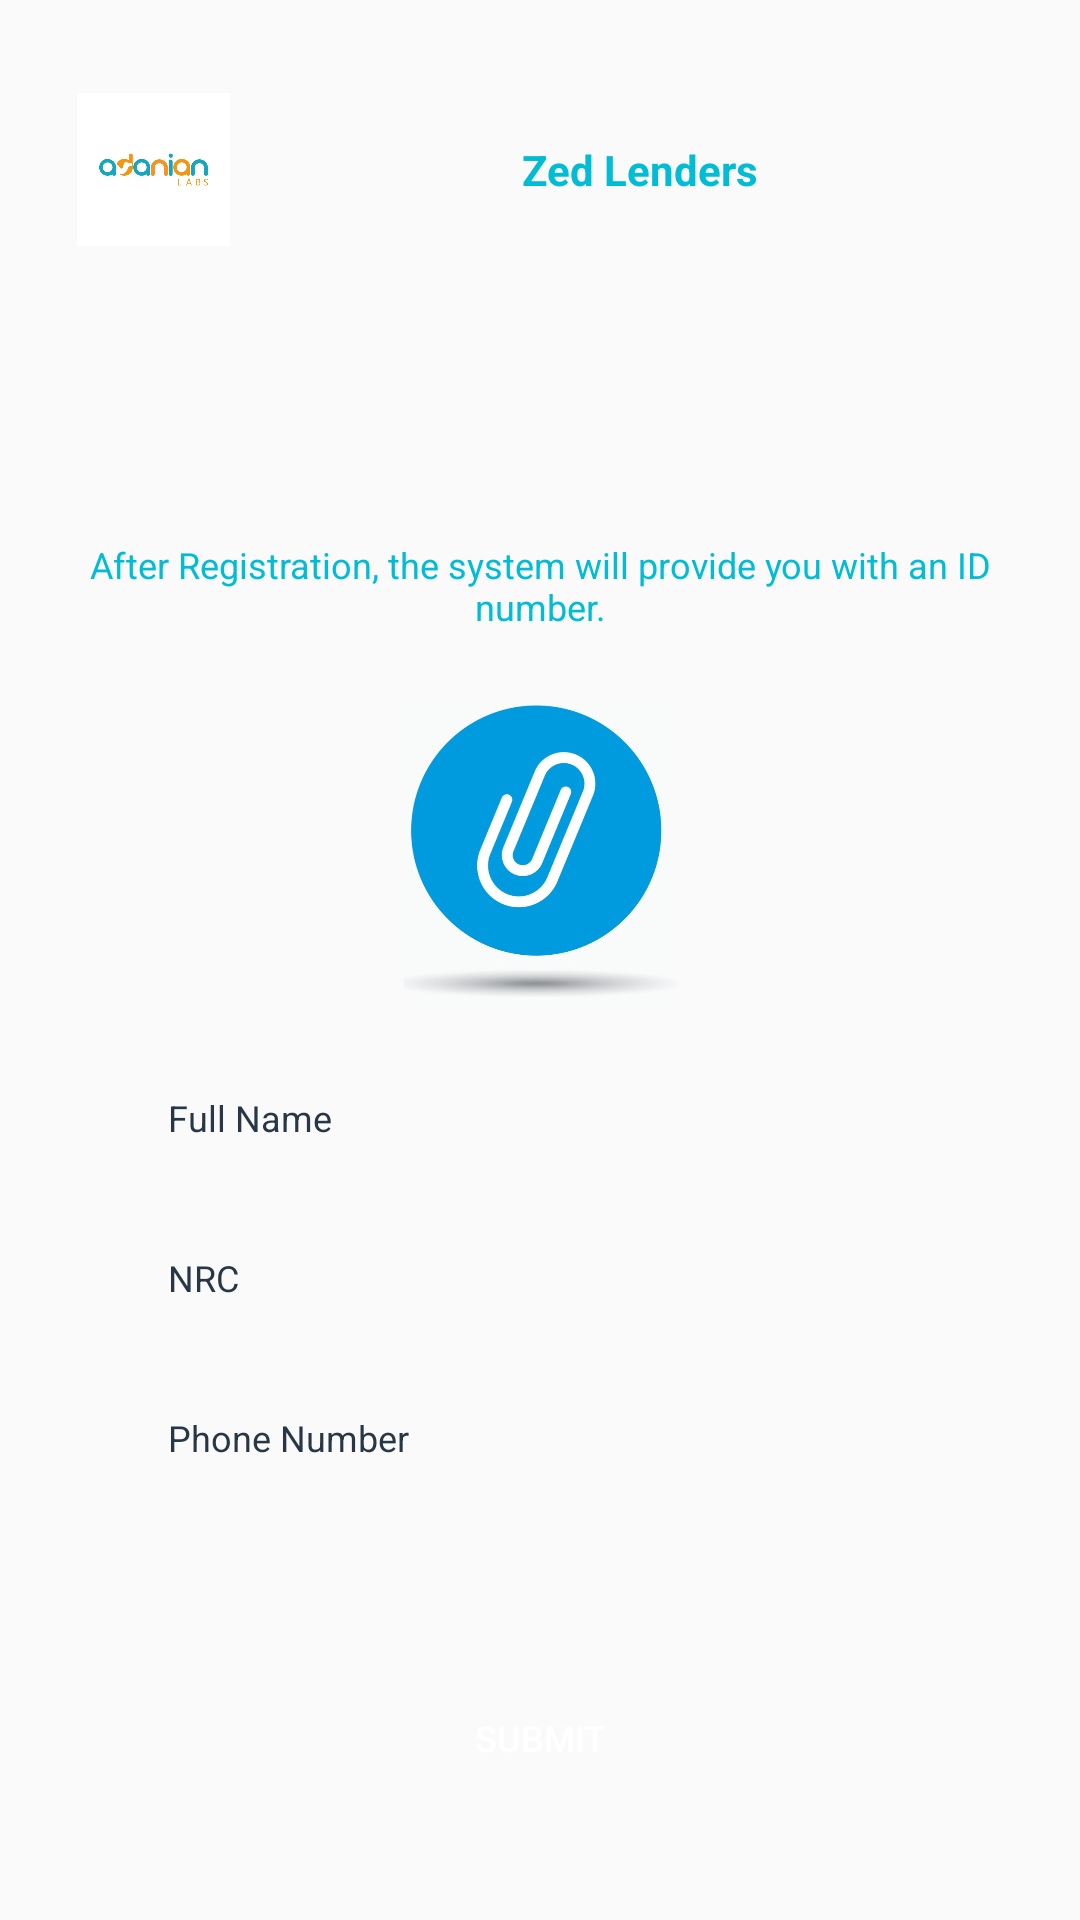

Named icons in this screenshot (1080 x 1920) and their bounding boxes, (x1, y1, x2, y2):
attachment: (411, 705, 662, 993)
